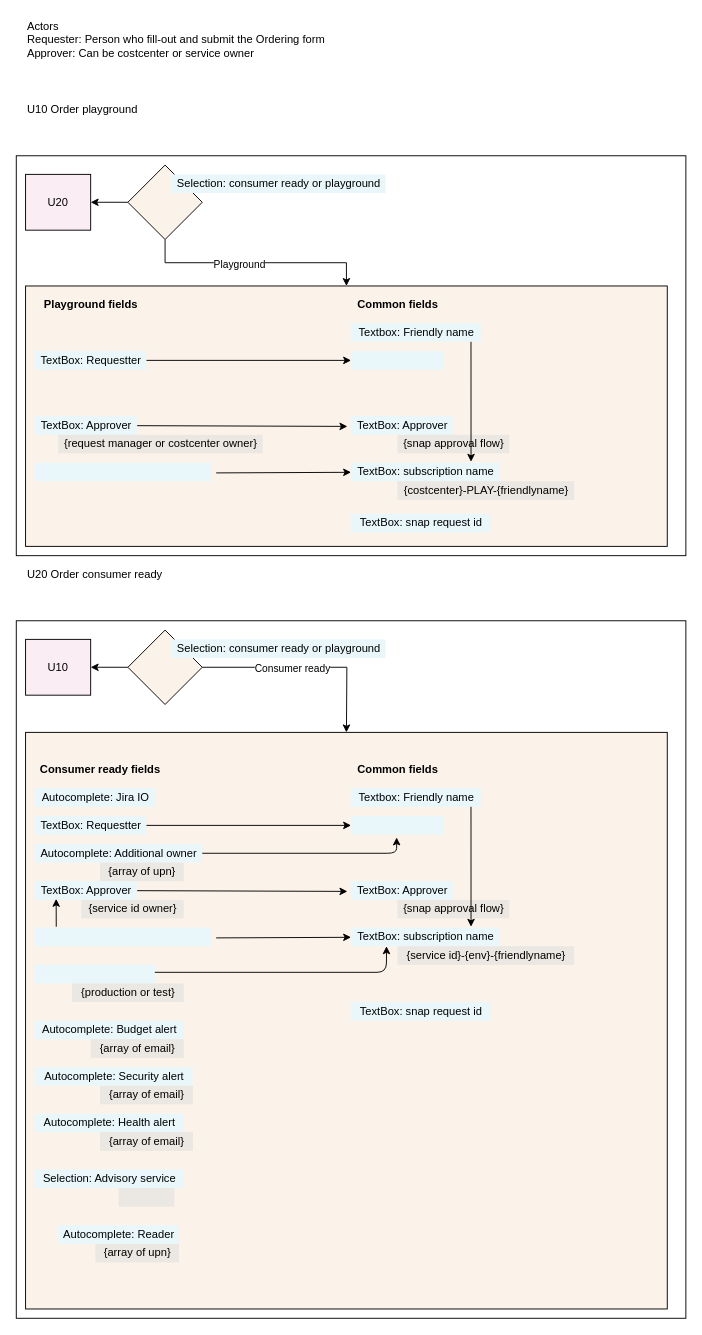
The diagram is 702 pixels wide and 1335 high, and some of its shapes have lost their labels. Here are the shapes that lost their labels. From the top down, the centre of each, then its label:
At (x=397, y=360): "TextBox: owner".
At (x=122, y=471): "Autocomplete: search costcenter".
At (x=397, y=825): "TextBox: owners".
At (x=122, y=936): "Autocomplete: search service id".
At (x=94, y=973): "Selection: Target env".
At (x=146, y=1197): "{yes/no}".
